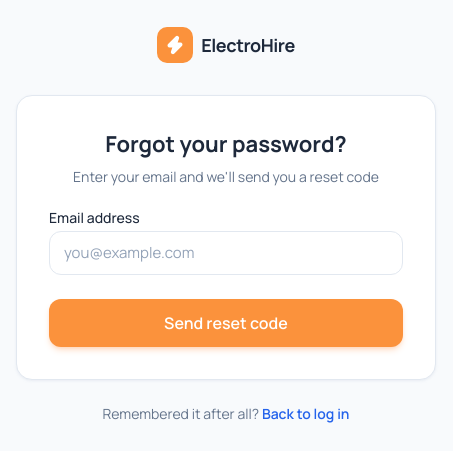
Test case: ForgotPasswordPage › shows a validation error for an empty email on submit
Click the button "Send reset code" at [226, 322], box x1=49 y1=298 x2=403 y2=346
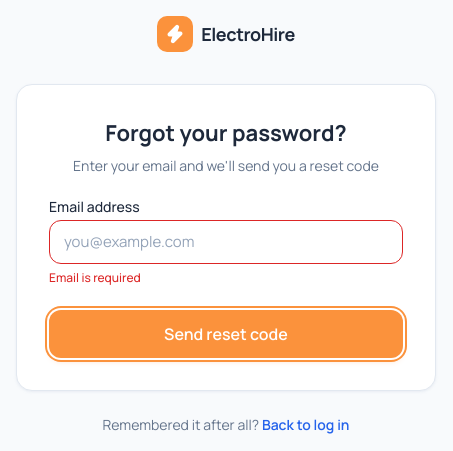
expect the text "Email is required" is shown: met, box x1=49 y1=268 x2=141 y2=286
